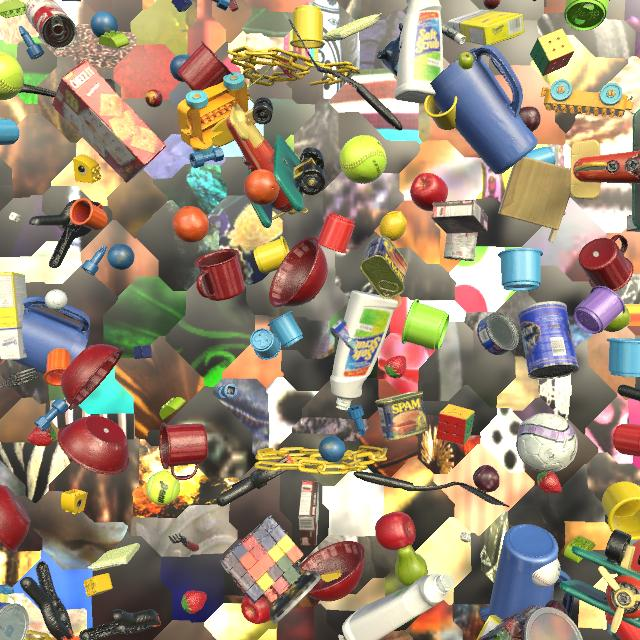ycb_002_master_chef_can: (517, 301, 579, 380), (0, 602, 29, 640)
ycb_003_cracker_box: (52, 60, 166, 183)
ycb_004_sugar_box: (448, 9, 525, 45), (0, 272, 27, 360), (476, 615, 502, 640)
ycb_005_tomato_soup_can: (25, 0, 77, 50), (444, 233, 478, 261)
ycb_007_tuna_fish_can: (477, 312, 519, 355), (330, 318, 361, 350)
ycb_008_pudding_box: (431, 199, 488, 234), (298, 480, 319, 546), (626, 215, 640, 232)
ycb_010_potted_meat_can: (360, 236, 408, 299), (375, 391, 428, 441)
ycb_012_strawberry: (181, 590, 207, 614), (28, 426, 56, 447), (537, 471, 562, 493), (385, 356, 406, 379)
ycb_013_apple: (375, 512, 416, 550), (410, 173, 448, 211), (241, 594, 271, 624)
ycb_014_lemon: (379, 211, 407, 241)
ycb_016_pear: (395, 545, 428, 586), (604, 306, 631, 332), (456, 52, 474, 70)
ycb_017_orange: (172, 206, 209, 243), (244, 169, 279, 206)
ycb_018_plum: (473, 465, 500, 493), (519, 106, 541, 132), (545, 600, 568, 616)
